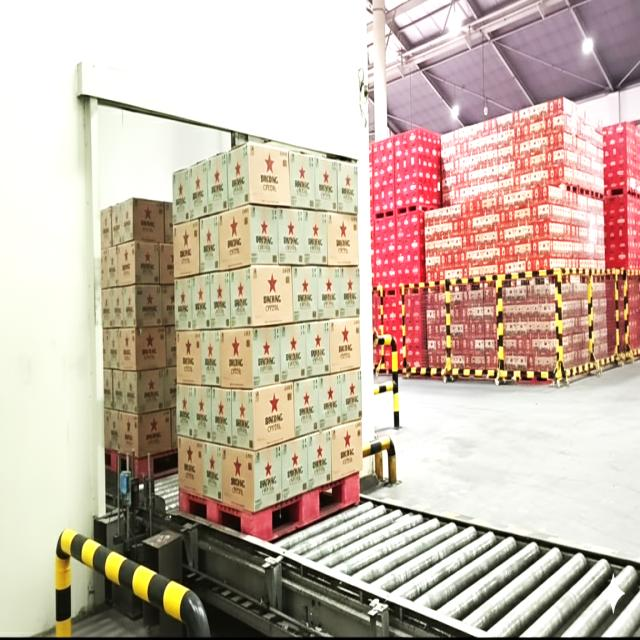pallet: (167, 135, 365, 537), (93, 190, 192, 482)
